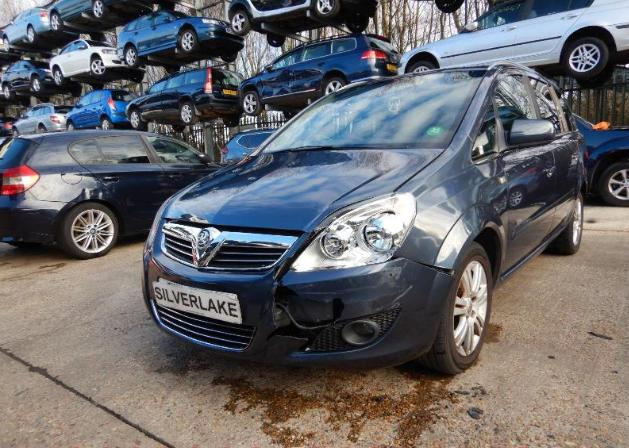Back-door: (524, 73, 580, 236)
Back-wheel: (544, 192, 584, 256)
Back-window: (528, 77, 564, 136), (552, 87, 576, 132)
Fender: (395, 135, 508, 286)
Front-bumper: (140, 221, 452, 371)
Front-door: (493, 71, 558, 275)
Front-wheel: (418, 241, 494, 374)
Front-window: (497, 75, 539, 131), (474, 97, 498, 162)
Grille: (161, 224, 297, 271)
Headlight: (284, 193, 419, 272), (146, 199, 169, 250)
Hood: (162, 149, 445, 232)
License-plate: (153, 278, 242, 323)
Mirror: (503, 119, 555, 149)
Quarter-panel: (571, 131, 590, 201)
Rocker-panel: (501, 216, 572, 282)
Windshield: (257, 66, 486, 154)
